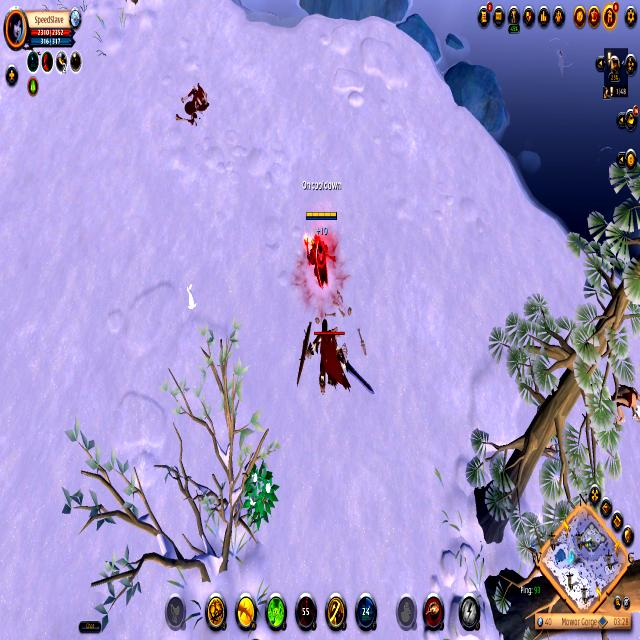hide: (235, 454, 281, 535)
ore: (292, 307, 378, 427), (603, 374, 640, 434)
red: (298, 203, 342, 298)
